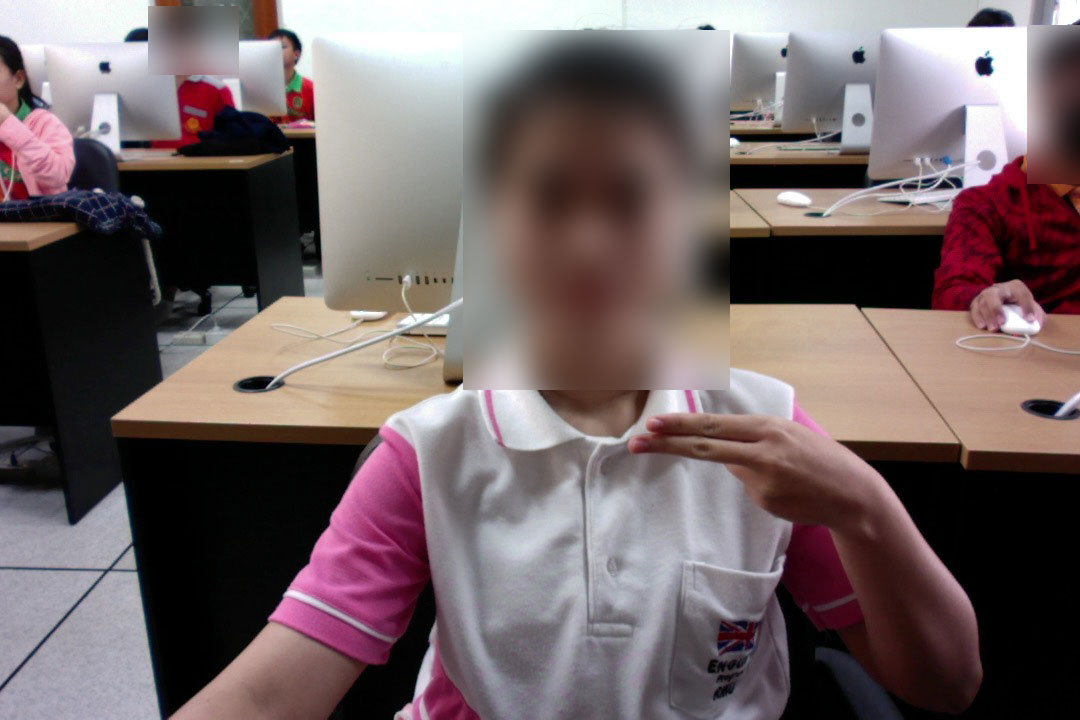hor: (623, 400, 893, 534)
